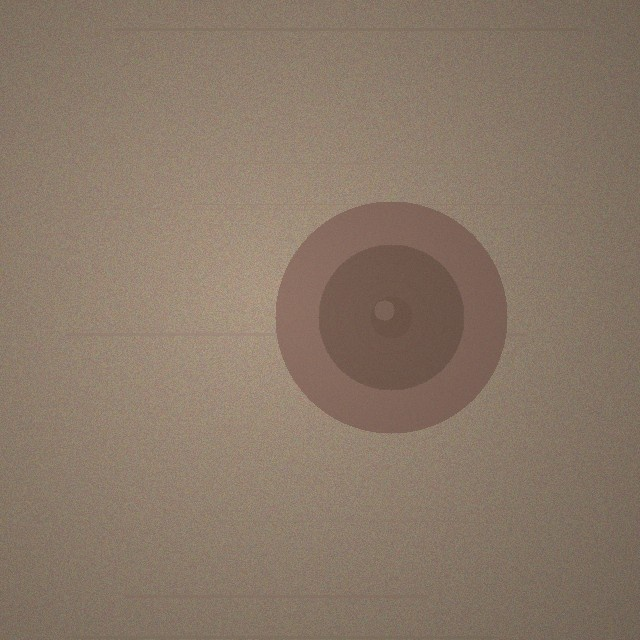good: (275, 201, 507, 433)
